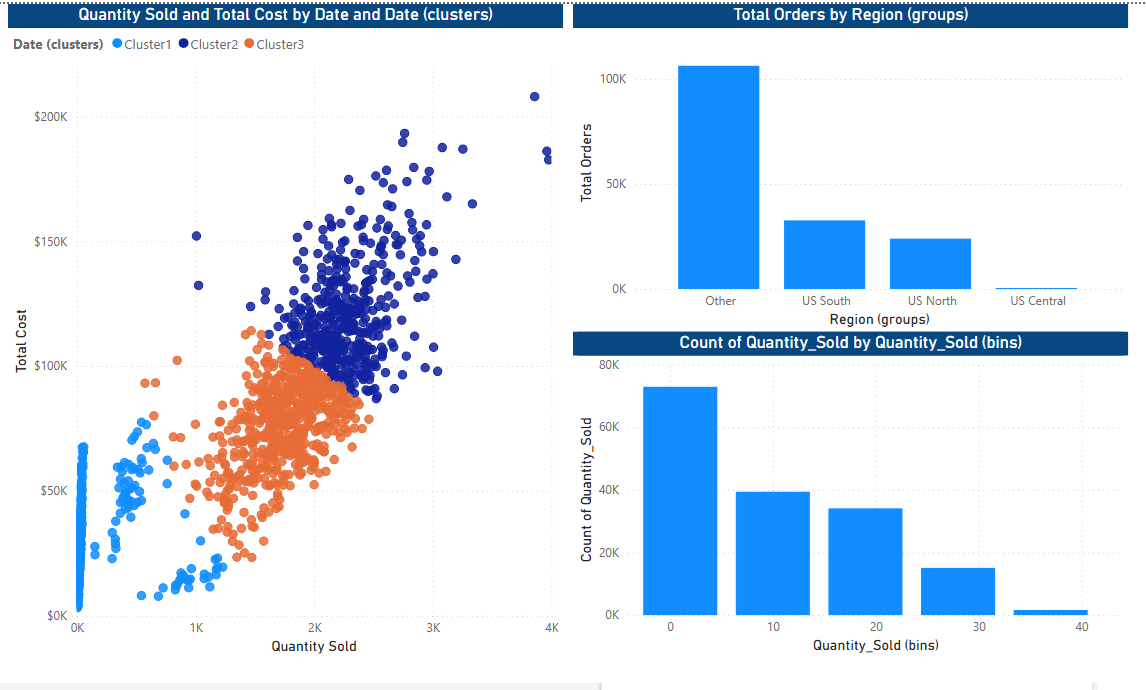

What the dashboard file says about the page in this screenshot:
{"tool":"powerbi","page":{"name":"Clustering & Grouping","canvas":[1280,720],"ordinal":4},"visuals":[{"type":"scatterChart","fields":{"Y":["Maven Cycles Sales.Total Cost"],"X":["Maven Cycles Sales.Quantity Sold"],"Category":["Maven Cycles Calendar.Date"],"Series":["Maven Cycles Calendar.Date (clusters)"]},"box":[10,0,555,655],"z":0},{"type":"clusteredColumnChart","fields":{"Y":["Maven Cycles Sales.Total Orders"],"Category":["Maven Cycles Regions.Region (groups)"]},"box":[575,0,555,328.3],"z":1},{"type":"clusteredColumnChart","fields":{"Y":["CountNonNull(Maven Cycles Sales.Quantity_Sold)"],"Category":["Maven Cycles Sales.Quantity_Sold (bins)"]},"box":[575,328,555,327],"z":2}]}

Visuals, with their boxes on the page's 1280x720 design canvas (x1, y1, x2, y2). These are canvas units, not pixel positions in the 1146x690 screenshot, which may show the page scaled, cropped or inside an application window:
scatterChart - Maven Cycles Sales.Total Cost x Maven Cycles Sales.Quantity Sold: locate(10, 0, 565, 655)
clusteredColumnChart - Maven Cycles Sales.Total Orders x Maven Cycles Regions.Region (groups): locate(575, 0, 1130, 328)
clusteredColumnChart - CountNonNull(Maven Cycles Sales.Quantity_Sold) x Maven Cycles Sales.Quantity_Sold (bins): locate(575, 328, 1130, 655)
